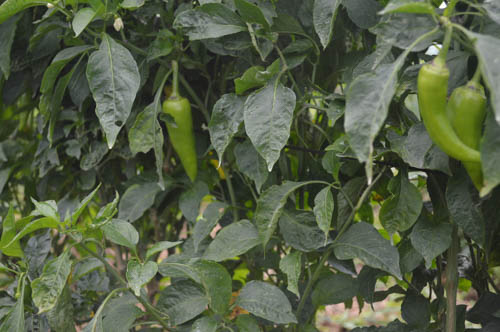ChiliPepper: (415, 64, 479, 164), (446, 88, 483, 189), (162, 101, 198, 181)
